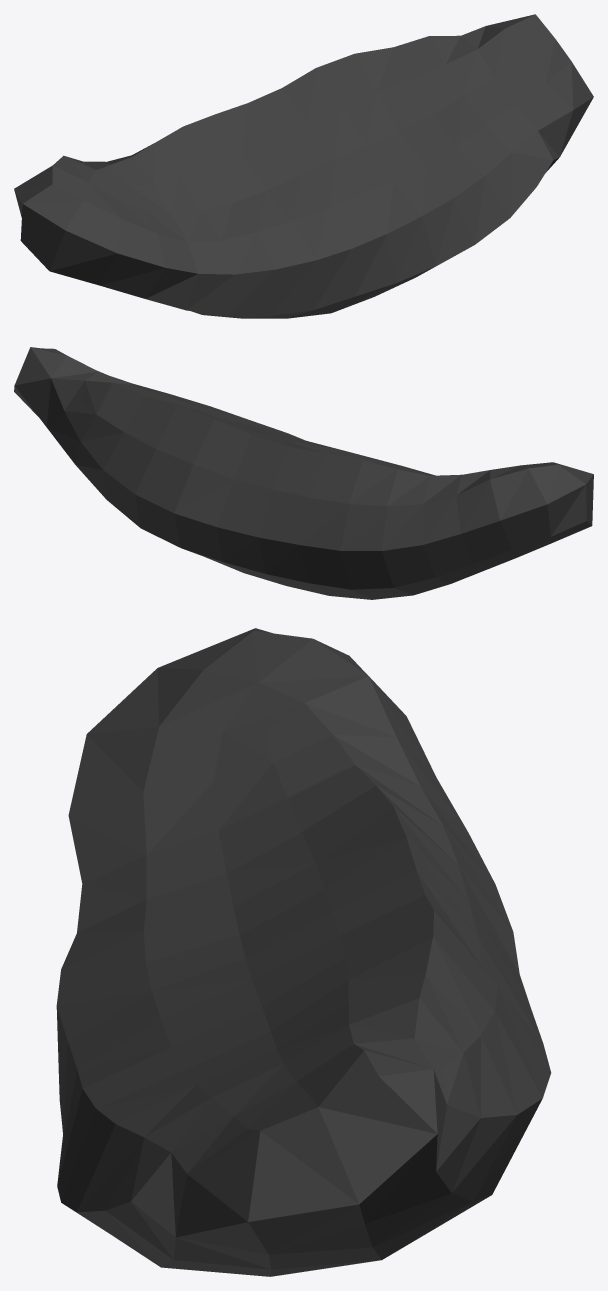
Rendered from FL_Navicular_L.glb.
3 views of the same model, one above another, from view 1: azimuth 30°, elevation 25°; view 2: azimuth 150°, elevation 25°; view 3: azimuth 270°, elevation 25° (orthographic). The views are drawn at different scales.
Parts seen in each view (by area): view 1: FL_Navicular_L; view 2: FL_Navicular_L; view 3: FL_Navicular_L.
Part boxes in pixels (<box>): FL_Navicular_L: <box>14,14,593,318</box>; FL_Navicular_L: <box>14,347,593,599</box>; FL_Navicular_L: <box>56,628,551,1276</box>.
Bounding box in the file's own units: 0.0561 × 0.018 × 0.0219.
1 material, 1 textured.
